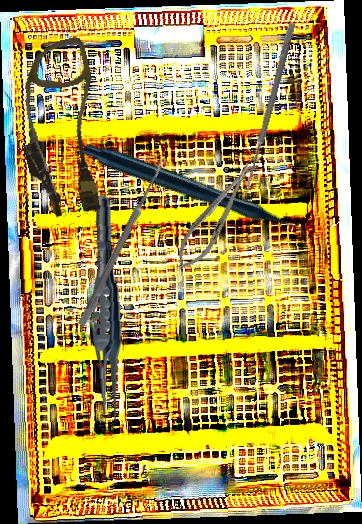Cannula: (2, 35, 121, 223)
Handpiece: (78, 71, 311, 318)
Needle Holder: (167, 157, 263, 277)
Surgical Spoon: (78, 155, 168, 328), (241, 22, 296, 198)
Tissue Forceps: (84, 194, 128, 430)
